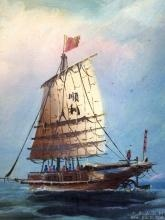fanchuan: (4, 32, 154, 195)
